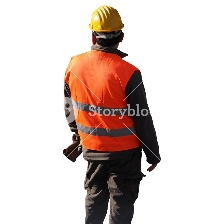helmet: (88, 7, 127, 34)
person: (61, 6, 167, 224)
vest: (66, 50, 149, 160)
